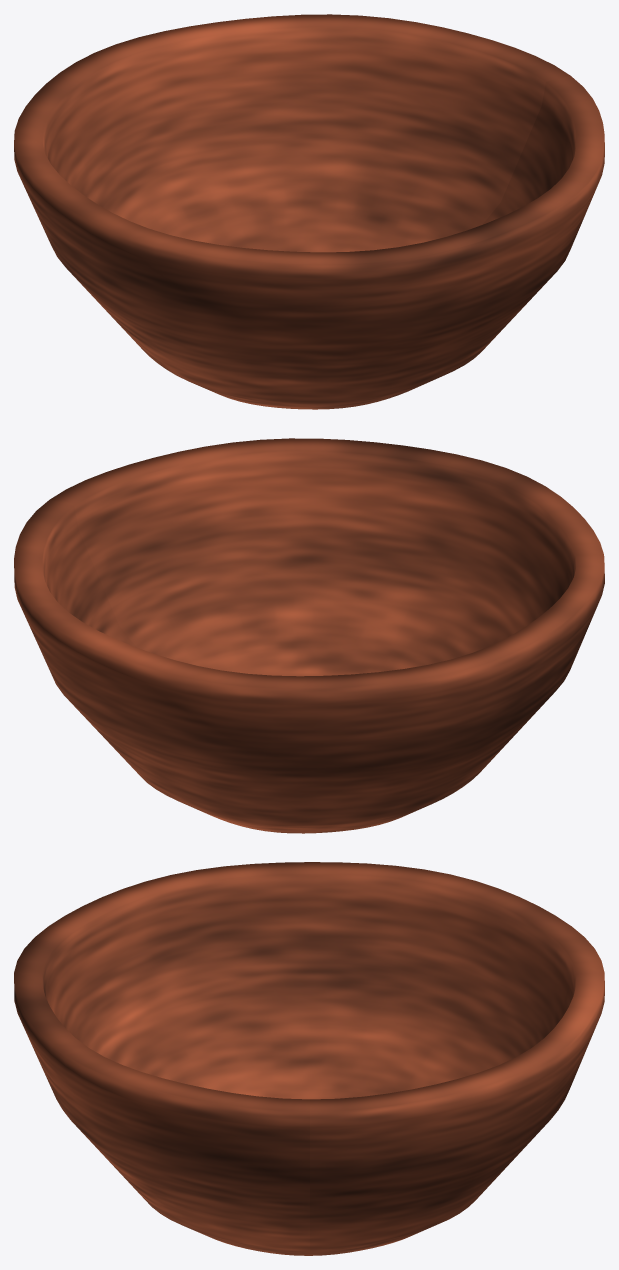
File: bowl_clay.glb
3 views of the same model, one above another, from view 1: azimuth 30°, elevation 25°; view 2: azimuth 150°, elevation 25°; view 3: azimuth 270°, elevation 25° (orthographic).
Parts seen in each view (by area): view 1: clay; view 2: clay; view 3: clay.
Part boxes in pixels (x1,y1,x2,y2): clay: (14, 14, 604, 409); clay: (14, 438, 604, 833); clay: (14, 862, 604, 1255).
Size of the model in its own units: 0.23 by 0.092 by 0.2303.
Materials: 1 (1 with a texture image).
